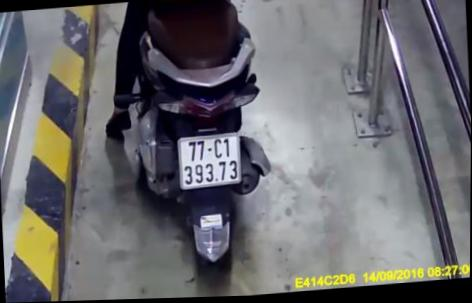LP: (175, 132, 244, 191)
